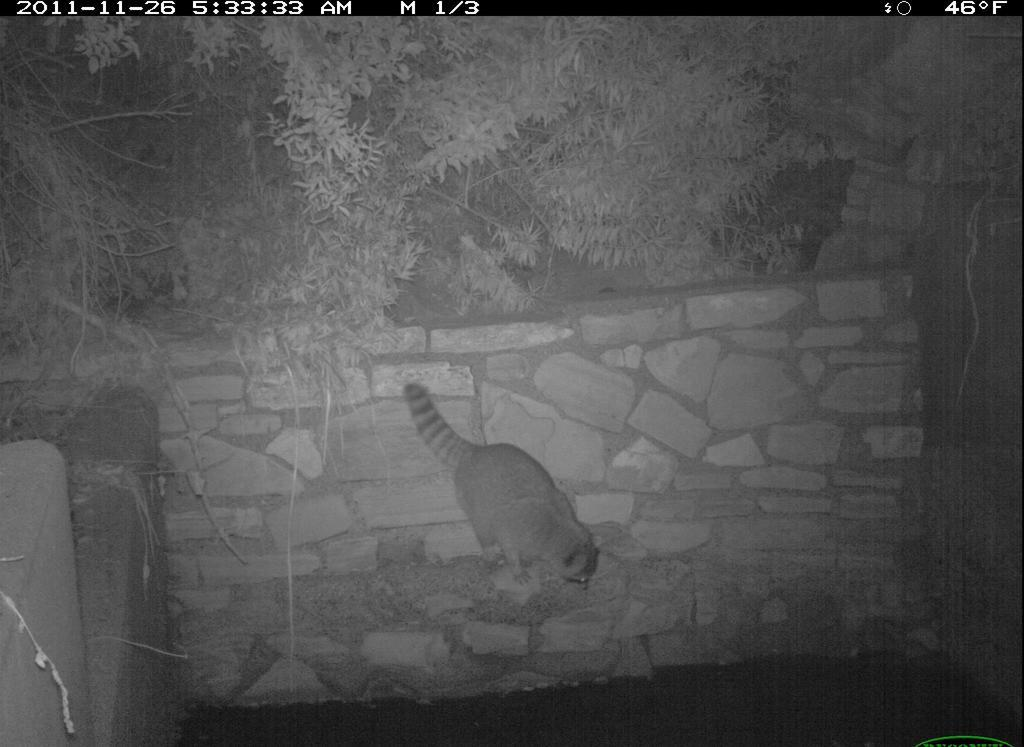raccoon: (392, 372, 623, 602)
